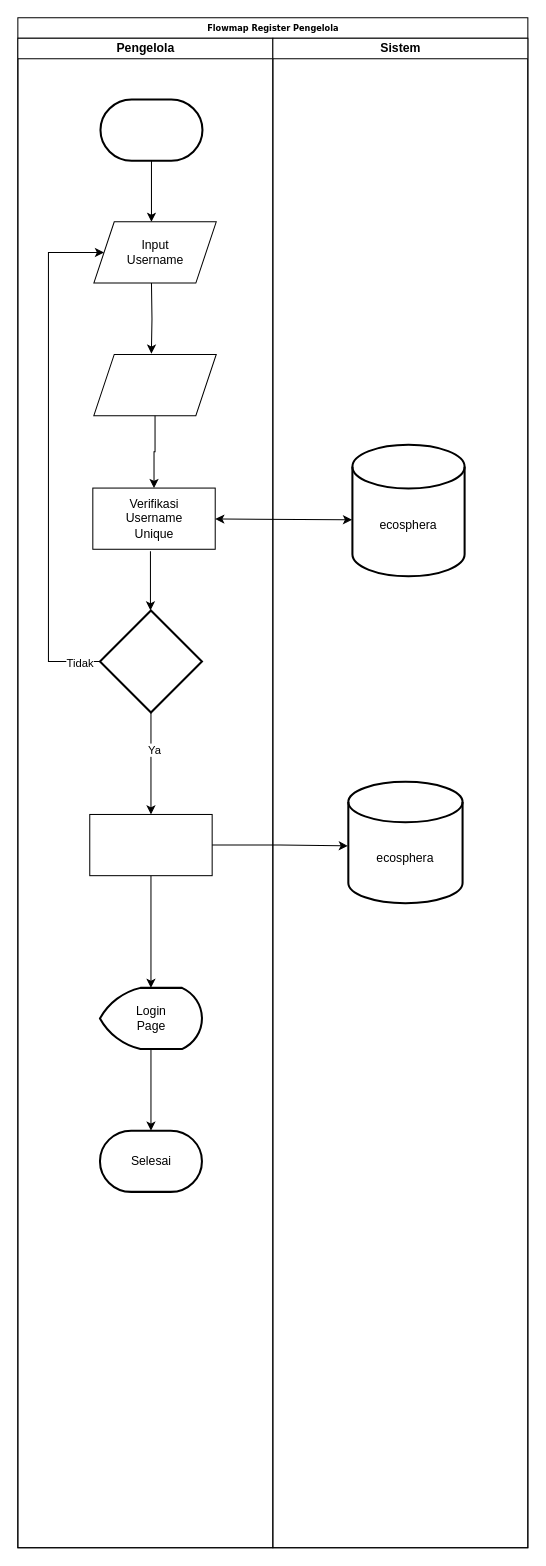
The diagram is 546 pixels wide and 1566 high, and some of its shapes have lost their labels. Each missing label, with the box of its shape:
Buat Data Pengeloloa: (89, 813, 212, 876)
Input Password: (93, 353, 216, 416)
Mulai: (99, 98, 203, 161)
Username Unique: (98, 609, 202, 713)
